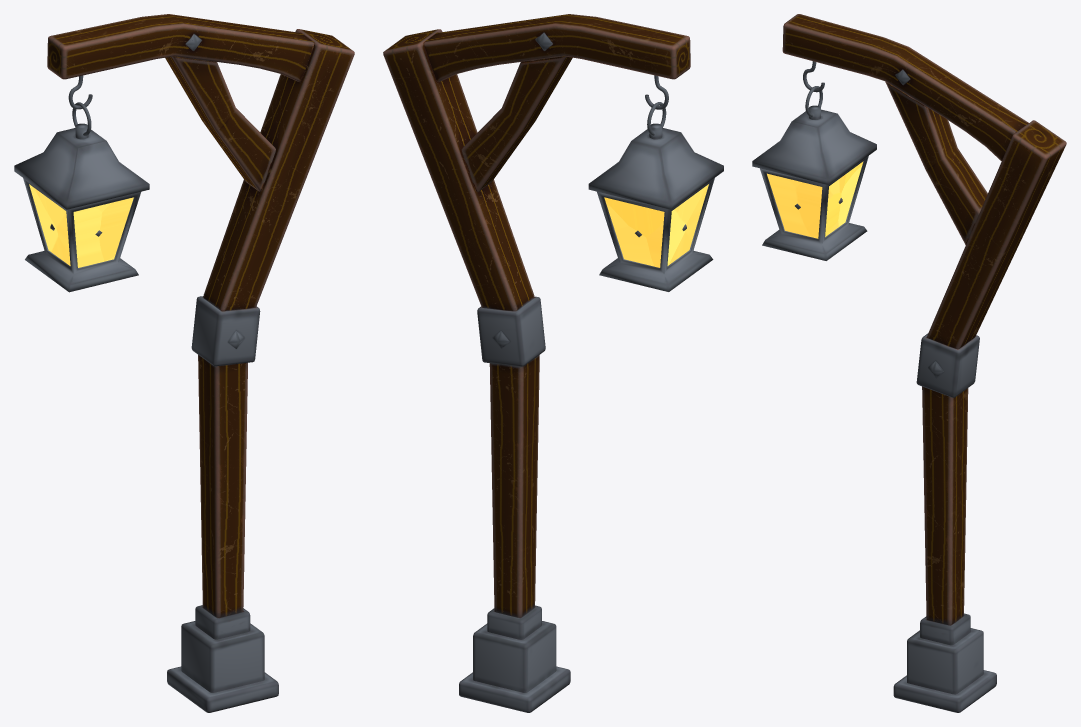
3 renders of one model, left to right at view 1: azimuth 30°, elevation 25°; view 2: azimuth 150°, elevation 25°; view 3: azimuth 330°, elevation 25°, orthographic. The views are drawn at different scales.
Parts seen in each view (by area): view 1: METAL_02_LP_Lampe_0, METAL_02_LP_light_0; view 2: METAL_02_LP_Lampe_0, METAL_02_LP_light_0; view 3: METAL_02_LP_Lampe_0, METAL_02_LP_light_0.
Boxes of the visible parts, x1,y1,x2,y2 form: METAL_02_LP_Lampe_0: (14,14,354,712); METAL_02_LP_light_0: (29,184,133,267); METAL_02_LP_Lampe_0: (383,14,723,712); METAL_02_LP_light_0: (604,184,708,267); METAL_02_LP_Lampe_0: (752,14,1066,712); METAL_02_LP_light_0: (767,161,863,238).
Size of the model in its own units: 1.68 by 3.65 by 0.5049.
2 materials, 2 textured.
